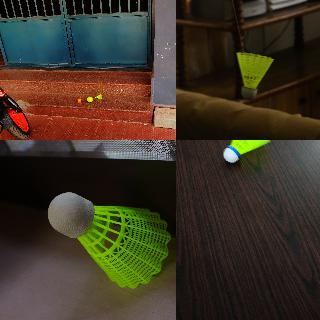shuttlecock: (48, 192, 170, 288), (236, 52, 274, 100), (222, 140, 269, 164), (95, 94, 101, 98)
